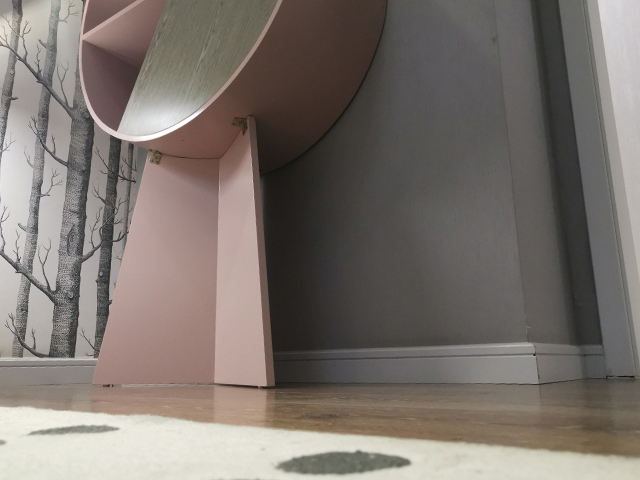carpet: (1, 404, 640, 480)
